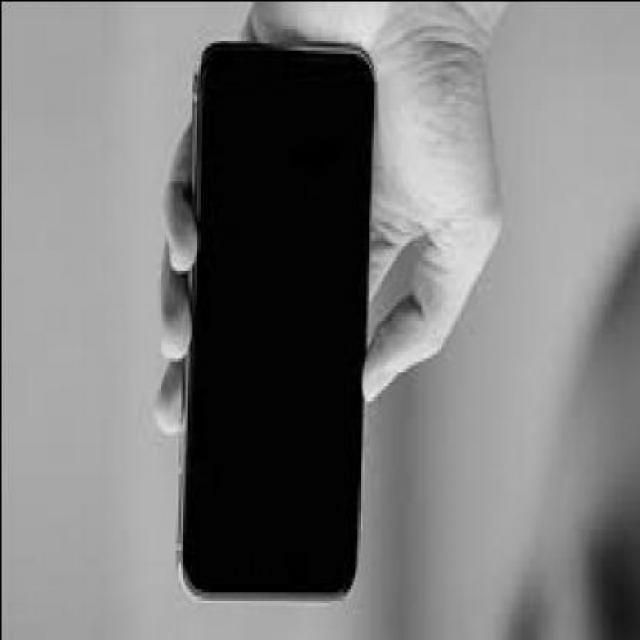fake: (174, 38, 372, 598)
